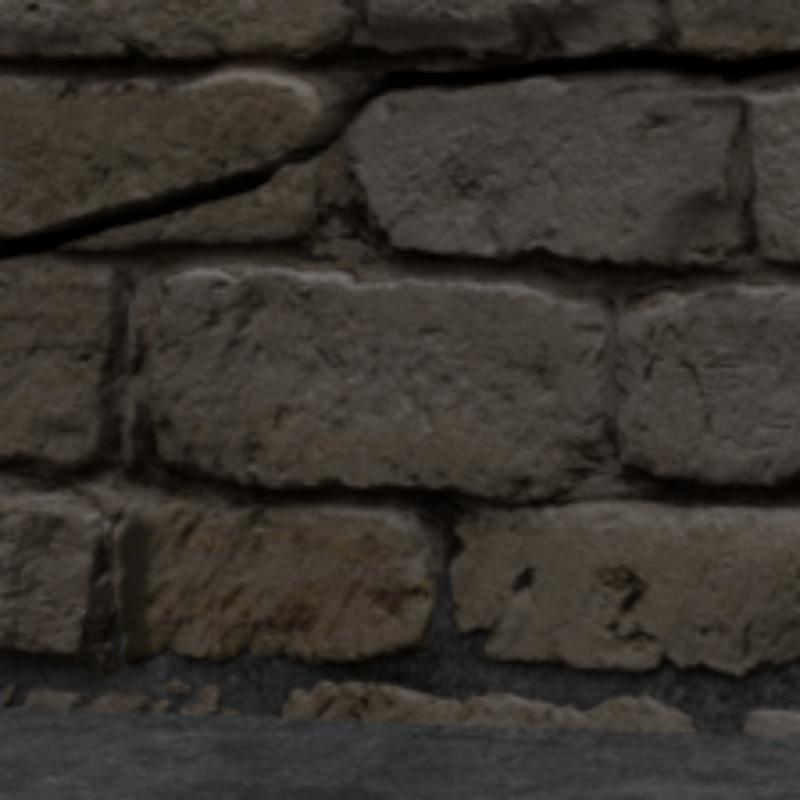crack: (0, 46, 796, 257)
